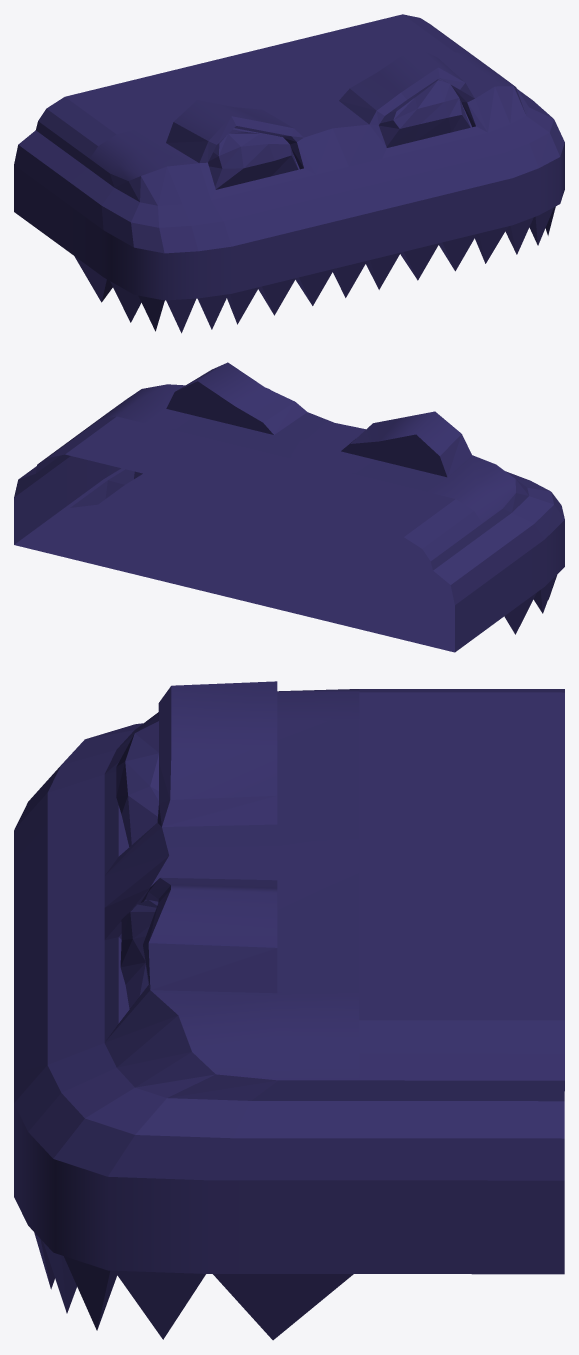
Rendered from Robot_Mouth.FBX.
3 views of the same model, one above another, from view 1: azimuth 30°, elevation 25°; view 2: azimuth 150°, elevation 25°; view 3: azimuth 270°, elevation 25° (orthographic). The views are drawn at different scales.
Visible parts, largest first — view 1: Upper_mouth; view 2: Upper_mouth; view 3: Upper_mouth.
Part boxes in pixels (x1=…): Upper_mouth: x1=14, y1=14, x2=564, y2=333; Upper_mouth: x1=14, y1=362, x2=564, y2=652; Upper_mouth: x1=14, y1=681, x2=564, y2=1340.
Bounding box in the file's own units: 43.26 × 16.84 × 23.6.
